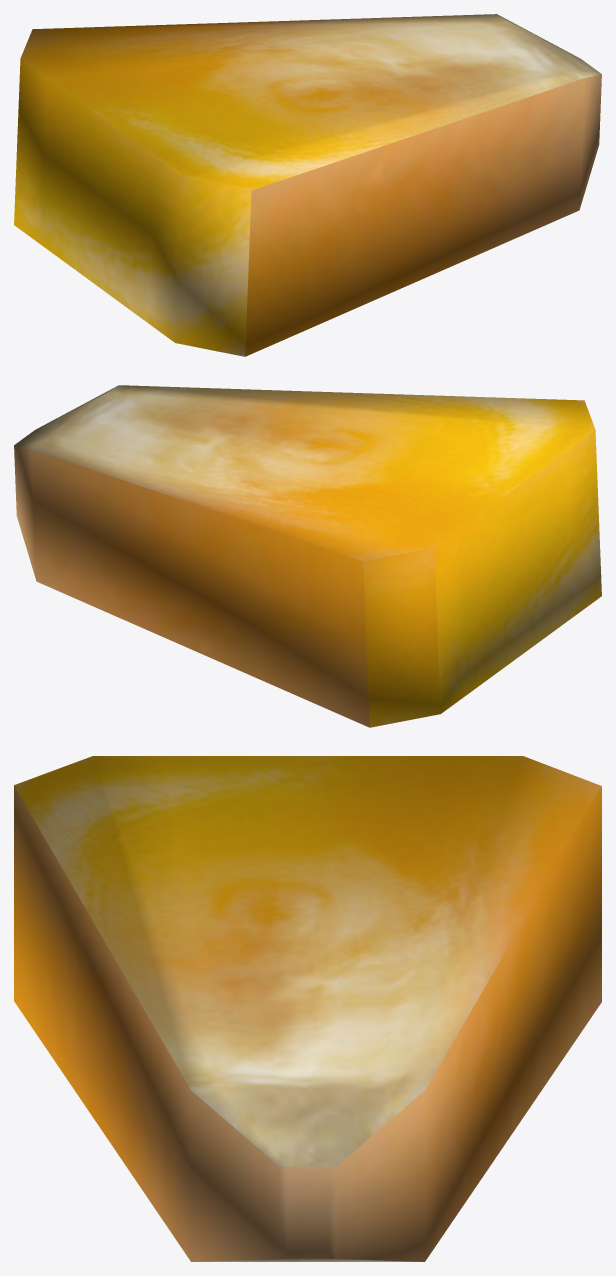
File: corn.fbx
The picture shows the model from 3 angles, top to bottom: view 1: azimuth 30°, elevation 25°; view 2: azimuth 150°, elevation 25°; view 3: azimuth 270°, elevation 25°; orthographic projection. The views are drawn at different scales.
Parts seen in each view (by area): view 1: corn; view 2: corn; view 3: corn.
Part boxes in pixels (x1,y1,x2,y2): corn: (14,14,601,356); corn: (14,385,601,727); corn: (14,756,601,1261).
Size of the model in its own units: 2.08 by 0.6681 by 1.6.
Materials: 1 (1 with a texture image).
